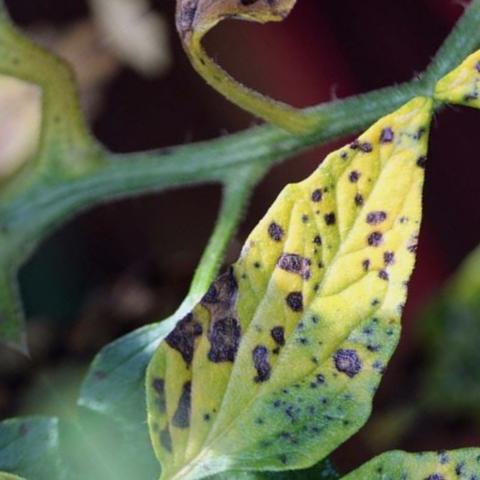Tomato Septoria leaf spot: (59, 71, 480, 480)
